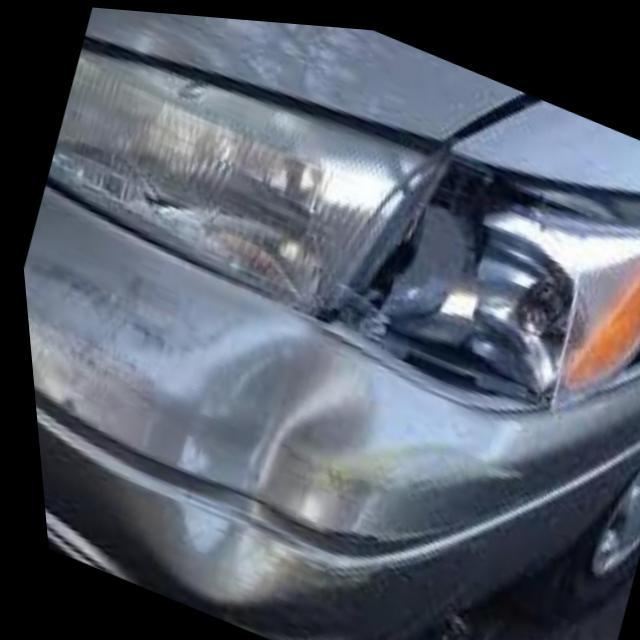lamp broken: (132, 128, 640, 621)
